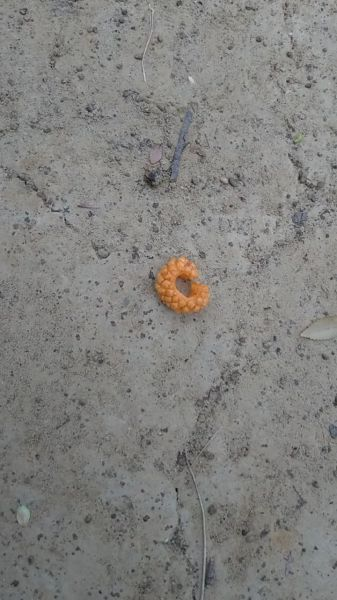eggs: (156, 251, 213, 311)
